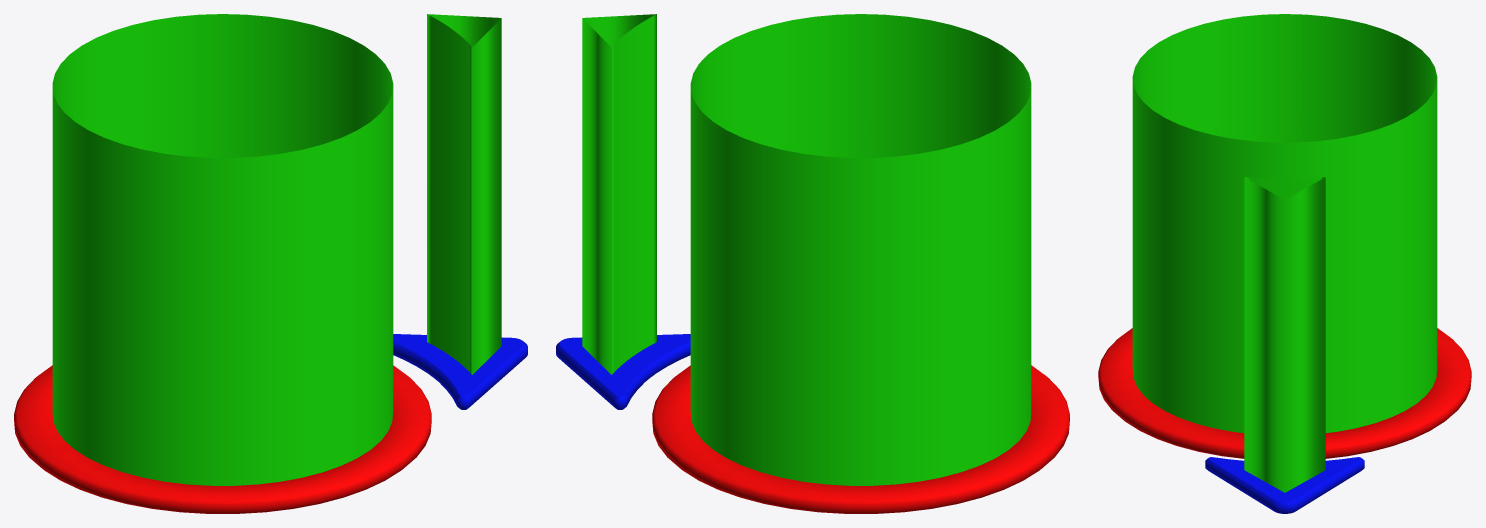
Rendered from mesh_teleporter.FBX.
The picture shows the model from 3 angles, left to right: view 1: azimuth 30°, elevation 25°; view 2: azimuth 150°, elevation 25°; view 3: azimuth 270°, elevation 25°; orthographic projection. The views are drawn at different scales.
Parts seen in each view (by area): view 1: teleporter_lp; view 2: teleporter_lp; view 3: teleporter_lp.
Part boxes in pixels (x1=…): teleporter_lp: x1=14, y1=14, x2=527, y2=513; teleporter_lp: x1=556, y1=14, x2=1069, y2=513; teleporter_lp: x1=1098, y1=14, x2=1471, y2=513.
Bounding box in the file's own units: 80.09 × 54 × 59.89.
